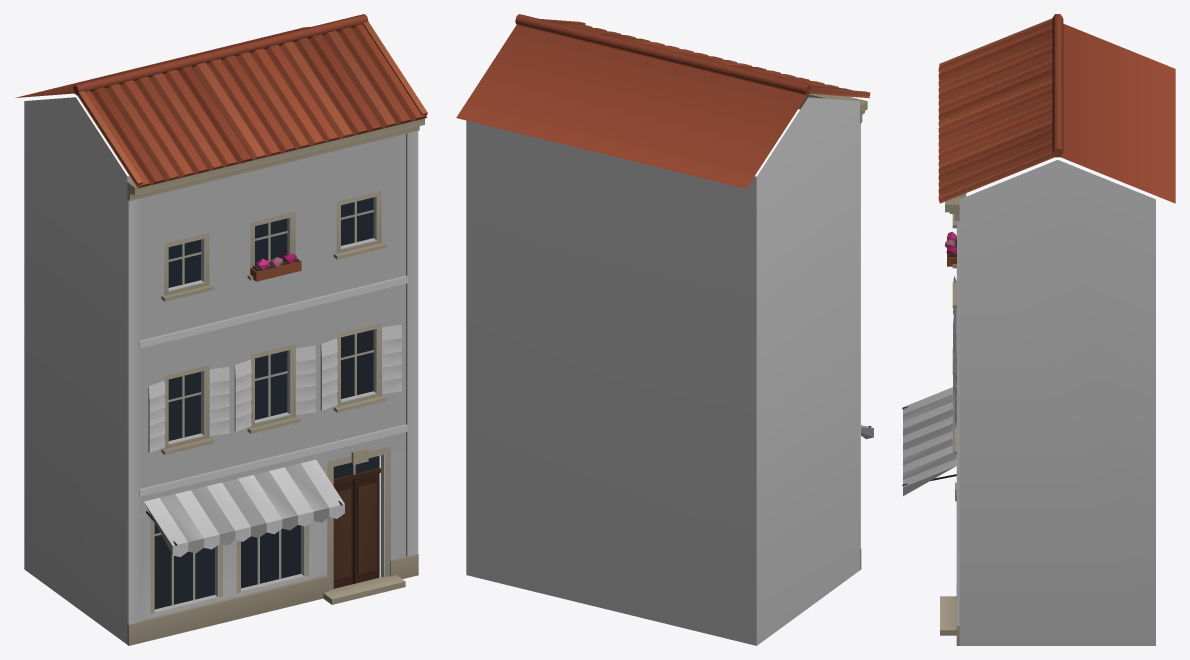
The model's file is plaza-house-f.glb.
3 renders of one model, left to right at view 1: azimuth 30°, elevation 25°; view 2: azimuth 150°, elevation 25°; view 3: azimuth 270°, elevation 25°, orthographic. The views are drawn at different scales.
Visible parts, largest first — view 1: stucco, trim, awning, shutters; view 2: stucco, trim; view 3: stucco, trim, awning, shutters.
Part boxes in pixels (left/top/right/bottom): stucco: left=24, top=97, right=418, bottom=644; trim: left=15, top=14, right=427, bottom=645; awning: left=144, top=459, right=344, bottom=556; shutters: left=148, top=324, right=401, bottom=452; stucco: left=466, top=97, right=860, bottom=645; trim: left=456, top=14, right=871, bottom=569; stucco: left=956, top=160, right=1155, bottom=645; trim: left=902, top=14, right=1175, bottom=645; awning: left=903, top=387, right=956, bottom=495; shutters: left=953, top=276, right=956, bottom=456.
Bounding box in the file's own units: 6.5 × 11.18 × 5.57.
